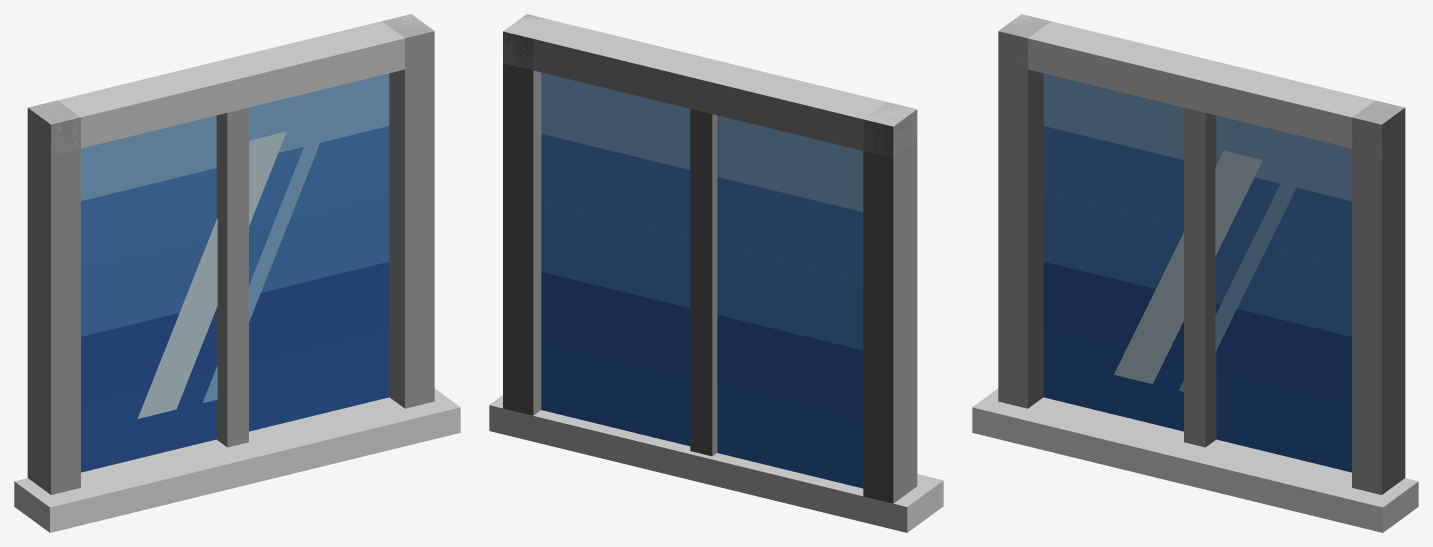
The model's file is bld_window_big.glb.
3 renders of one model, left to right at view 1: azimuth 30°, elevation 25°; view 2: azimuth 150°, elevation 25°; view 3: azimuth 330°, elevation 25°, orthographic.
Visible parts, largest first — view 1: bld_window_big; view 2: bld_window_big; view 3: bld_window_big.
Boxes of the visible parts, x1,y1,x2,y2 form: bld_window_big: [14, 14, 460, 532]; bld_window_big: [489, 14, 943, 532]; bld_window_big: [972, 14, 1418, 532].
Size of the model in its own units: 0.95 by 0.875 by 0.1437.
